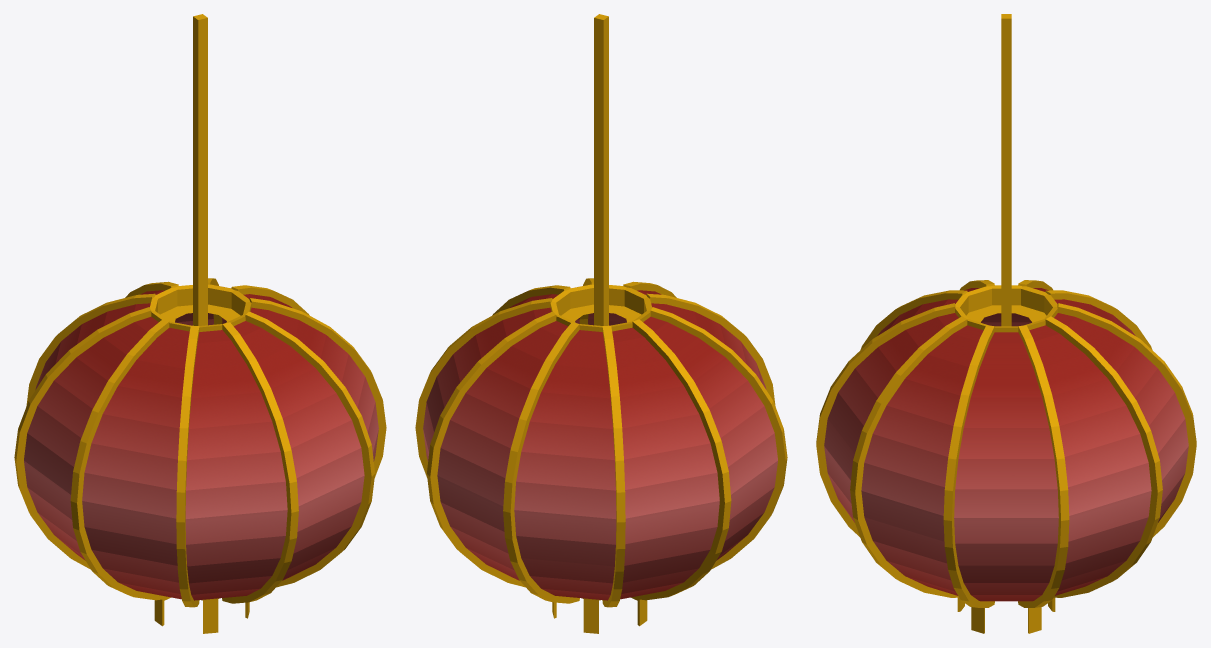
The model's file is Raven_Lantern.fbx.
The picture shows the model from 3 angles, left to right: view 1: azimuth 30°, elevation 25°; view 2: azimuth 150°, elevation 25°; view 3: azimuth 270°, elevation 25°; orthographic projection.
Visible parts, largest first — view 1: Sphere.002, Sphere.004, Cube, Sphere.003, Sphere.001; view 2: Sphere.002, Sphere.004, Cube, Sphere.003, Sphere.001; view 3: Sphere.002, Sphere.004, Cube, Sphere.003, Sphere.001.
Boxes of the visible parts, box(x1,y1,x2,y2) form: Sphere.002: box(24, 290, 378, 600); Sphere.004: box(14, 278, 386, 607); Cube: box(193, 14, 207, 325); Sphere.003: box(149, 284, 251, 331); Sphere.001: box(154, 597, 249, 633); Sphere.002: box(423, 290, 777, 600); Sphere.004: box(415, 278, 787, 607); Cube: box(594, 14, 608, 325); Sphere.003: box(550, 284, 652, 331); Sphere.001: box(552, 597, 647, 633); Sphere.002: box(824, 288, 1188, 601); Sphere.004: box(816, 280, 1196, 607); Cube: box(1001, 14, 1011, 326); Sphere.003: box(955, 285, 1057, 332); Sphere.001: box(957, 597, 1055, 633).
Bounding box in the file's own units: 52.99 × 96.1 × 55.31.
2 materials, 1 textured.
